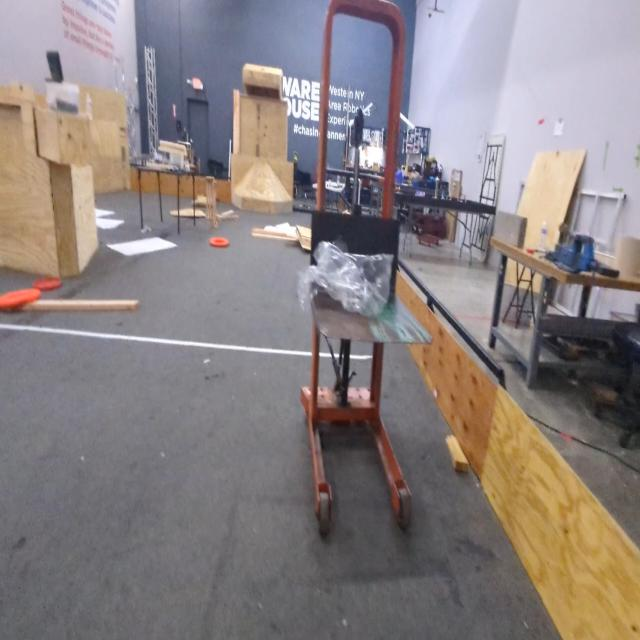note: (0, 284, 41, 313), (209, 237, 230, 249)
